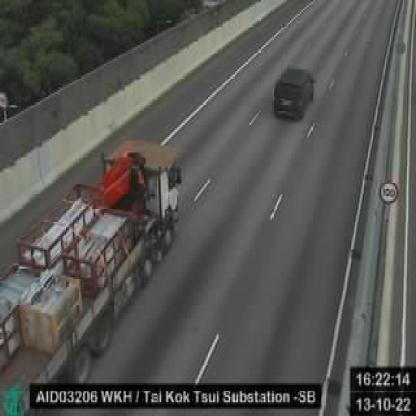Car: (271, 65, 315, 122)
Truck: (0, 138, 182, 397)
